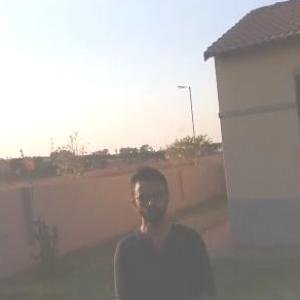follow: (111, 155, 225, 299)
